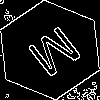M: (25, 25, 90, 86)
